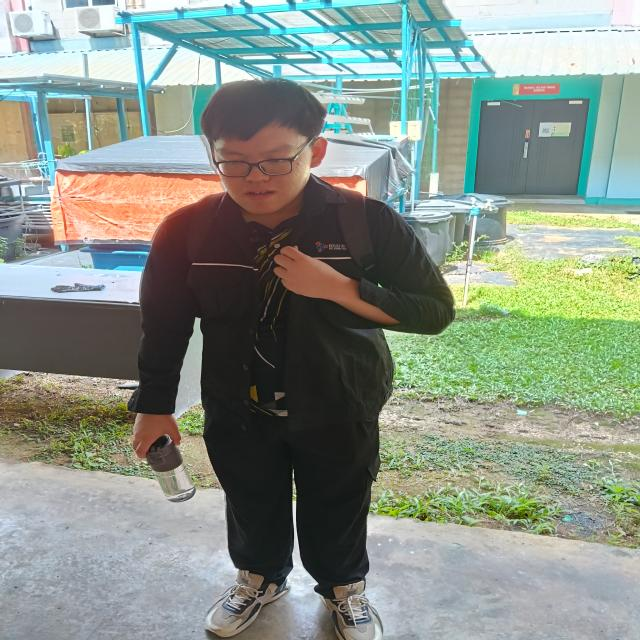person_with_labcoat: (129, 80, 455, 640)
